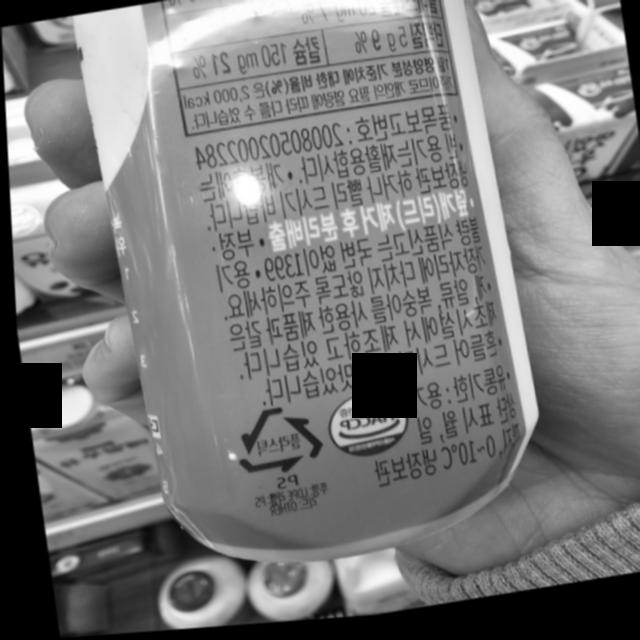Plastic: (223, 402, 322, 483)
